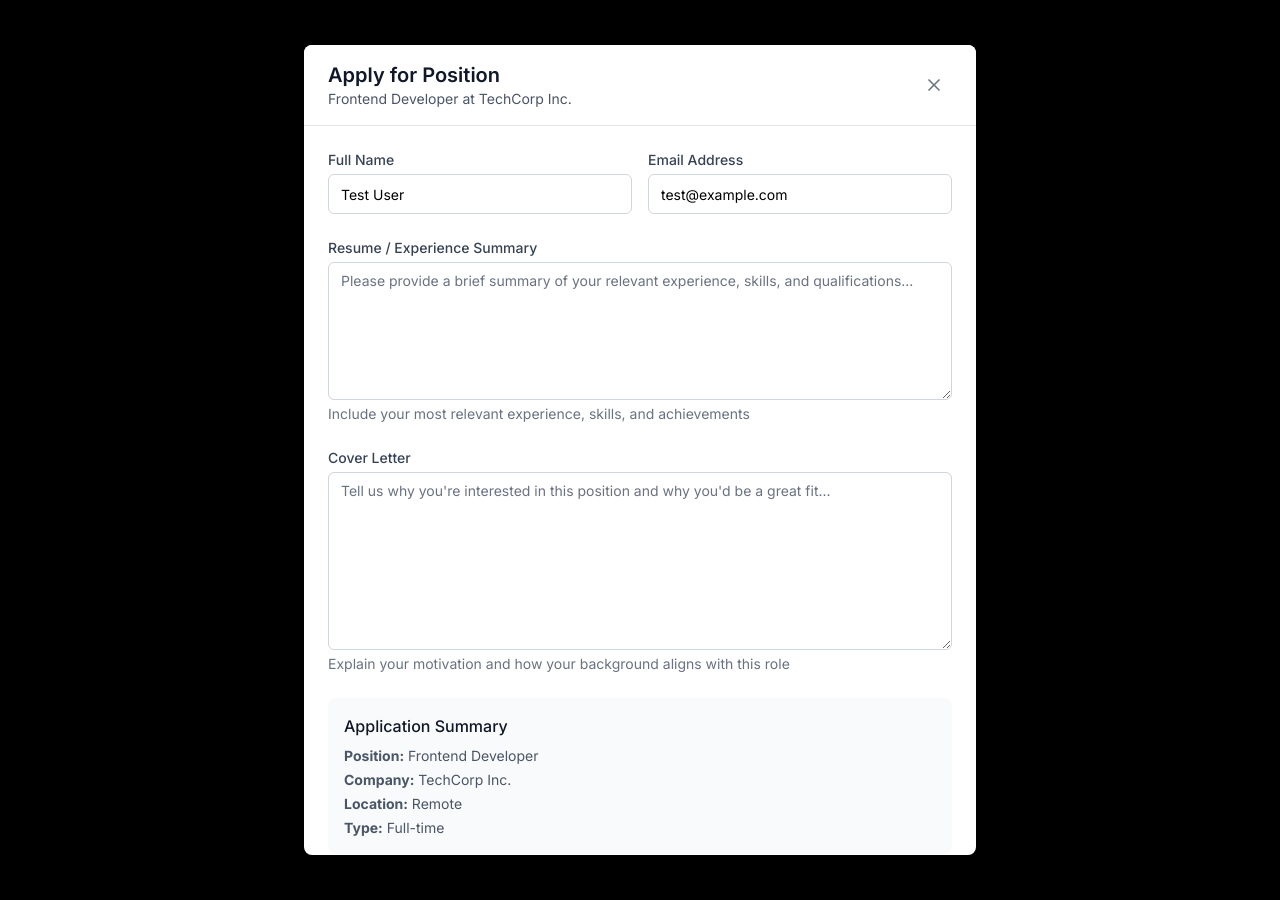
Scenario: ApplicationForm › validates minimum character requirements
Replace the text in the text box labelled "Resume / Experience Summary" with "Short". click: x=640, y=331
box: [328,262,952,400]
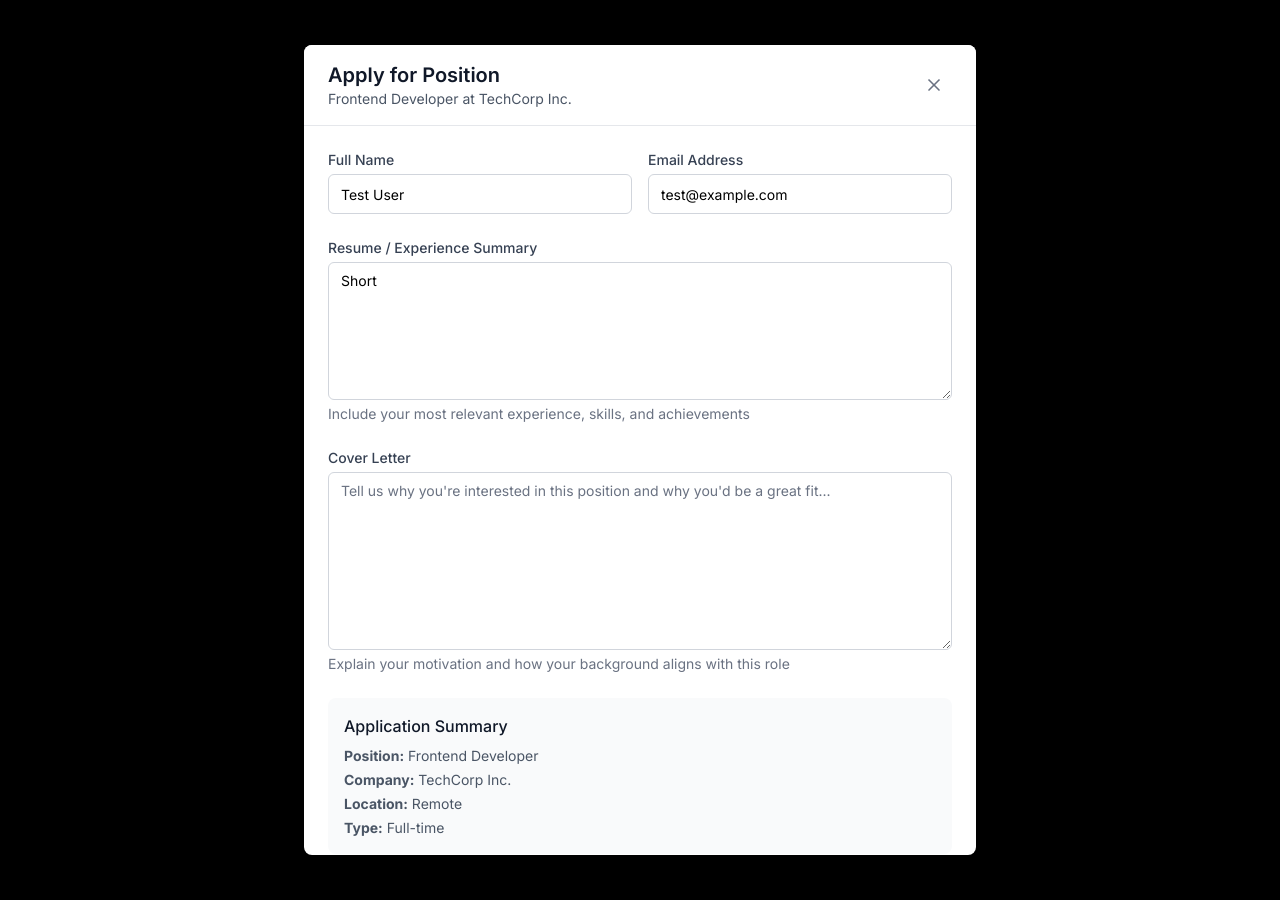
Replace the text in the text box labelled "Cover Letter" with "Too short". click: x=640, y=561
box: [328,472,952,650]
(page scrolled)
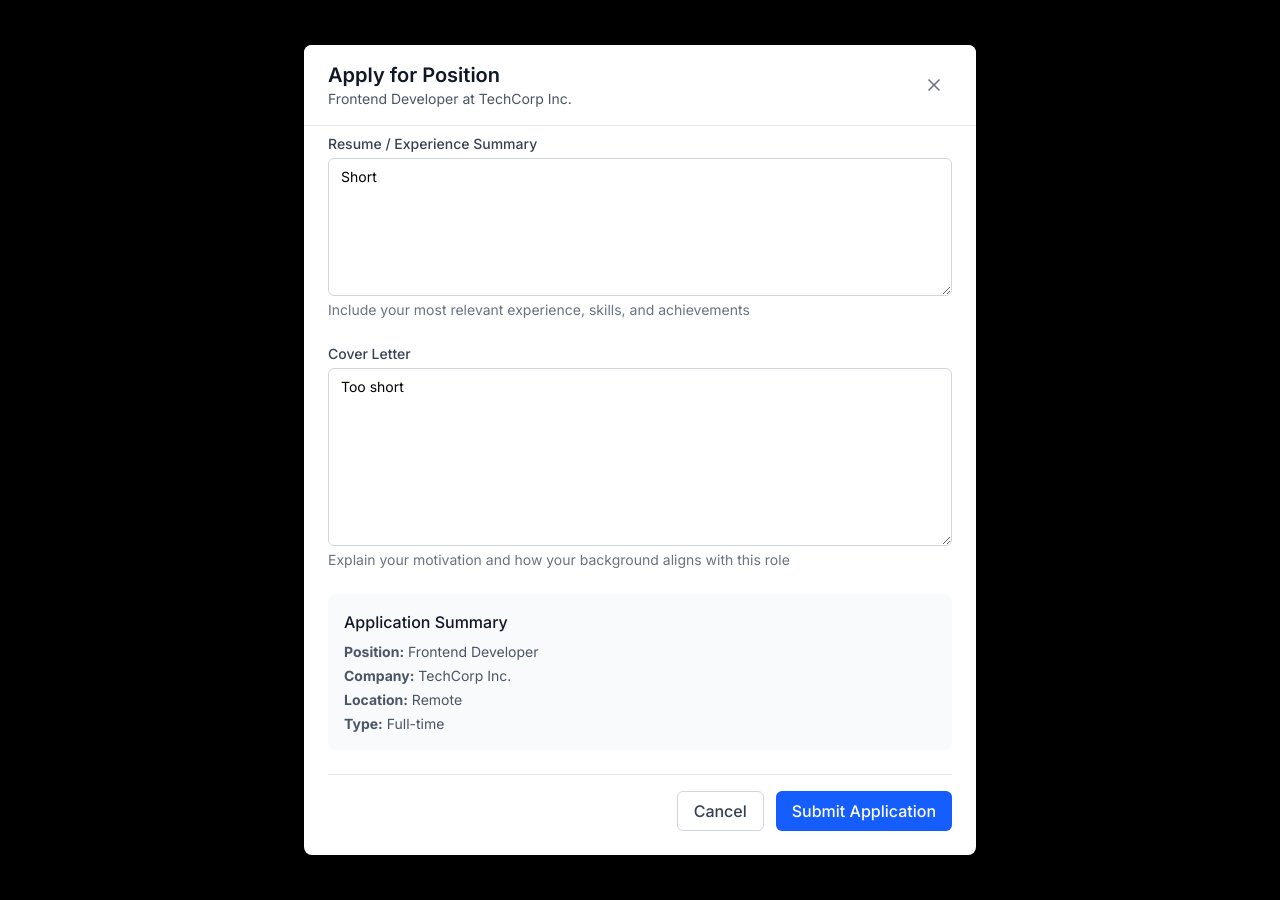
Click the button "Submit Application". click: x=864, y=811
box: [776,791,952,831]
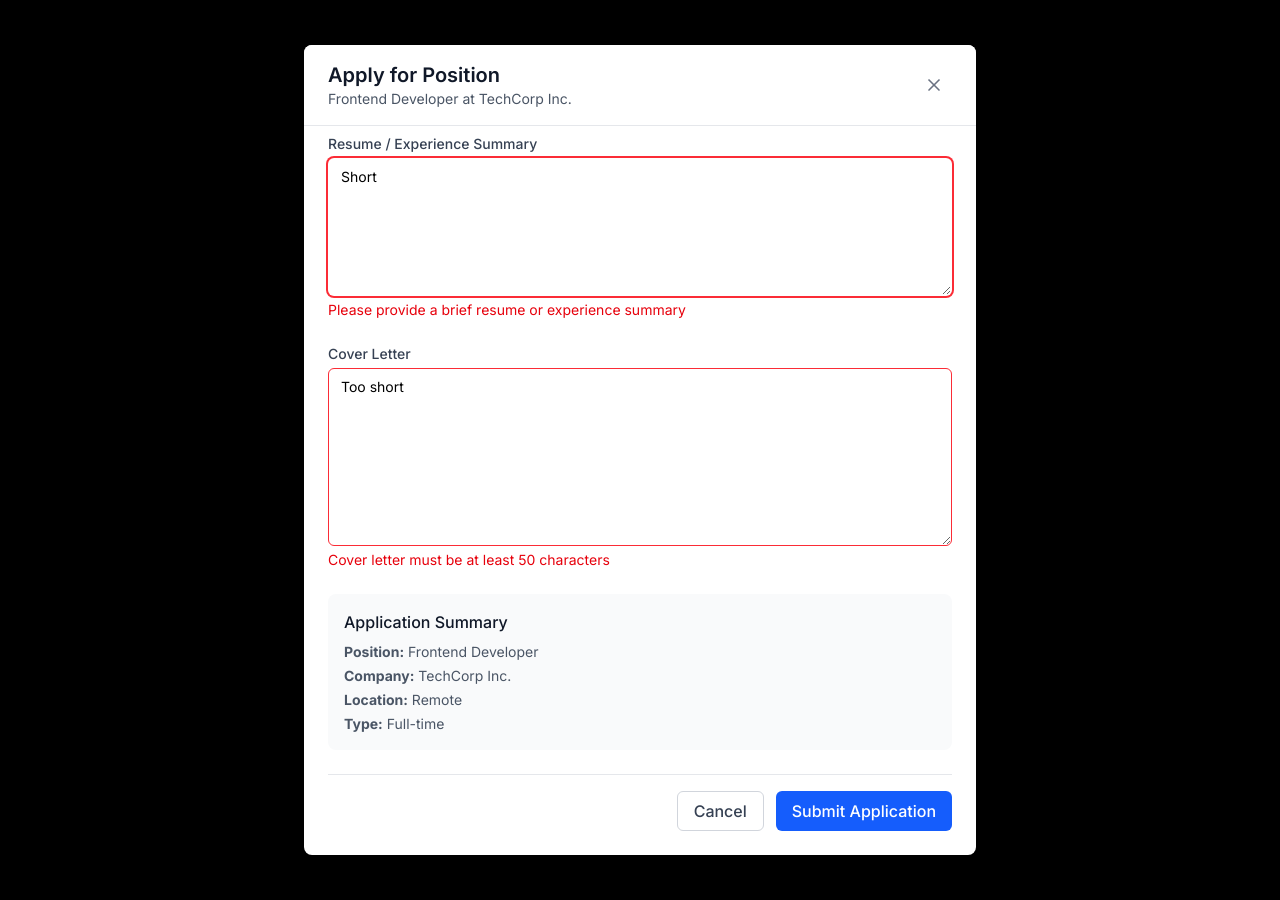
Expected: the text "Please provide a brief resume or experience summary" is shown, [328,301,686,318]
Expected: the text "Cover letter must be at least 50 characters" is shown, [328,551,610,568]
